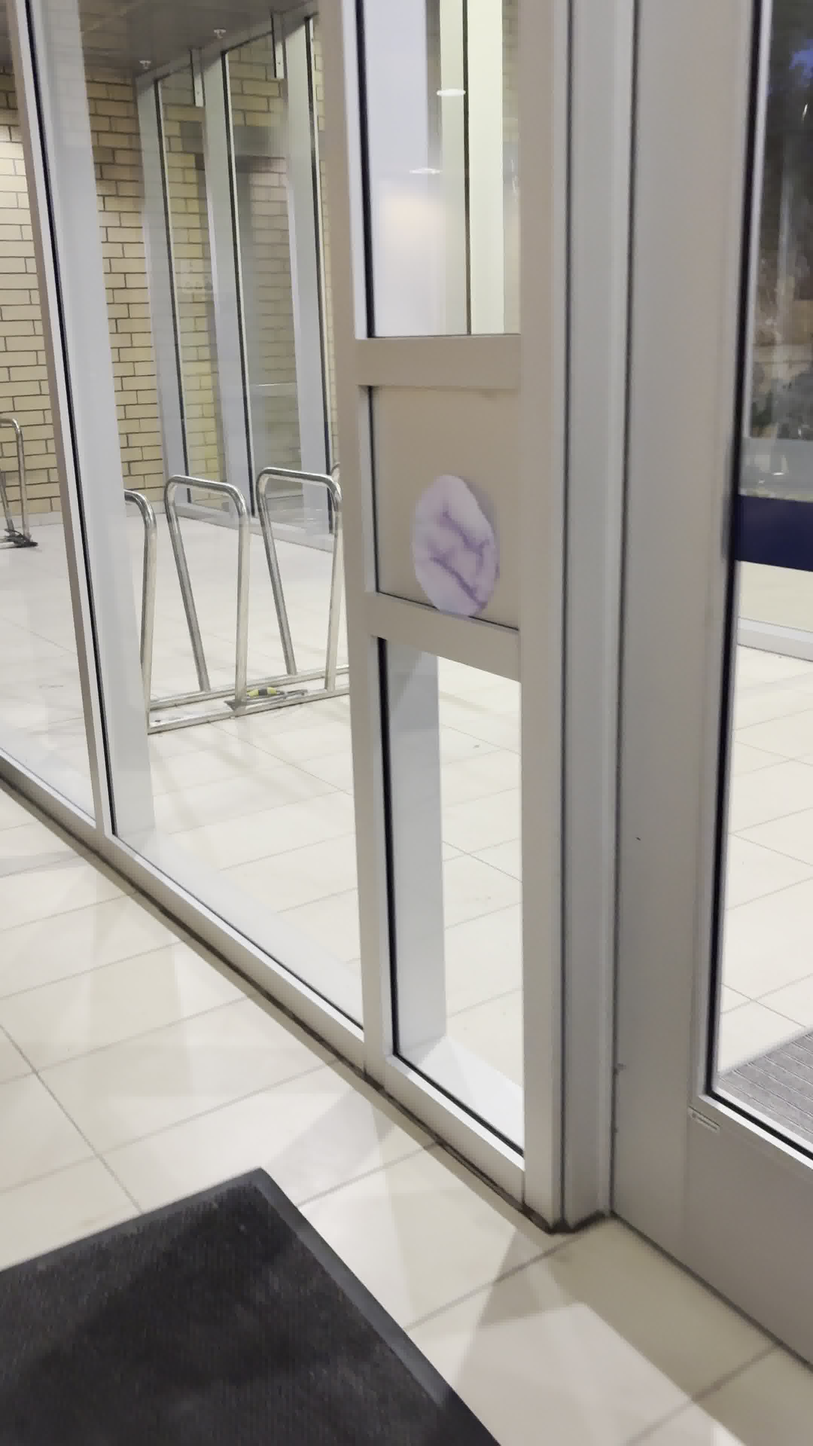Target: (398, 463, 515, 623)
